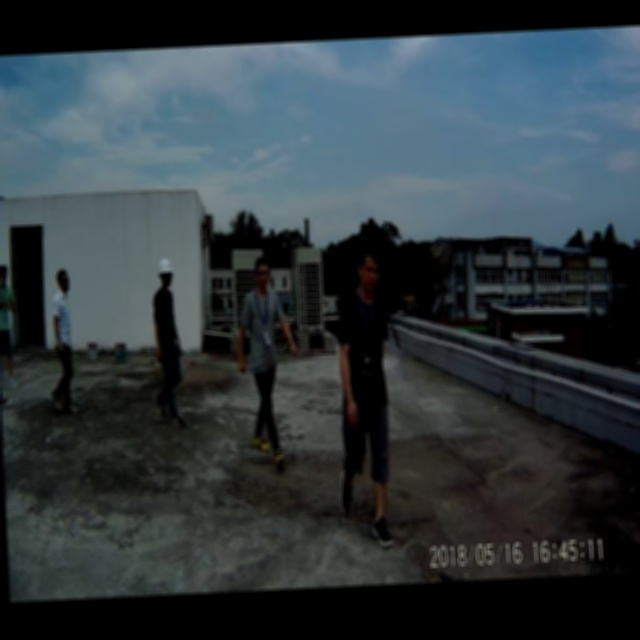Con_Casco: (156, 258, 174, 289)
Sin_Casco_Mascarrilla: (251, 256, 275, 290)
Sin_Chaleco: (237, 289, 284, 378)
